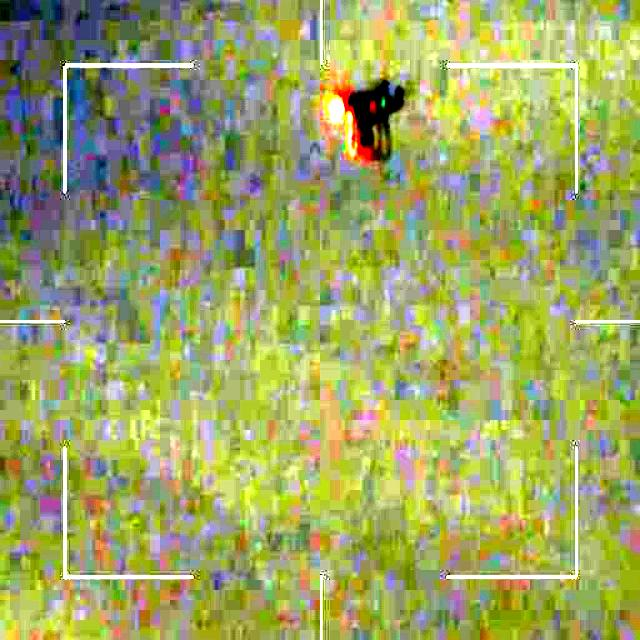bird: (325, 81, 409, 169)
